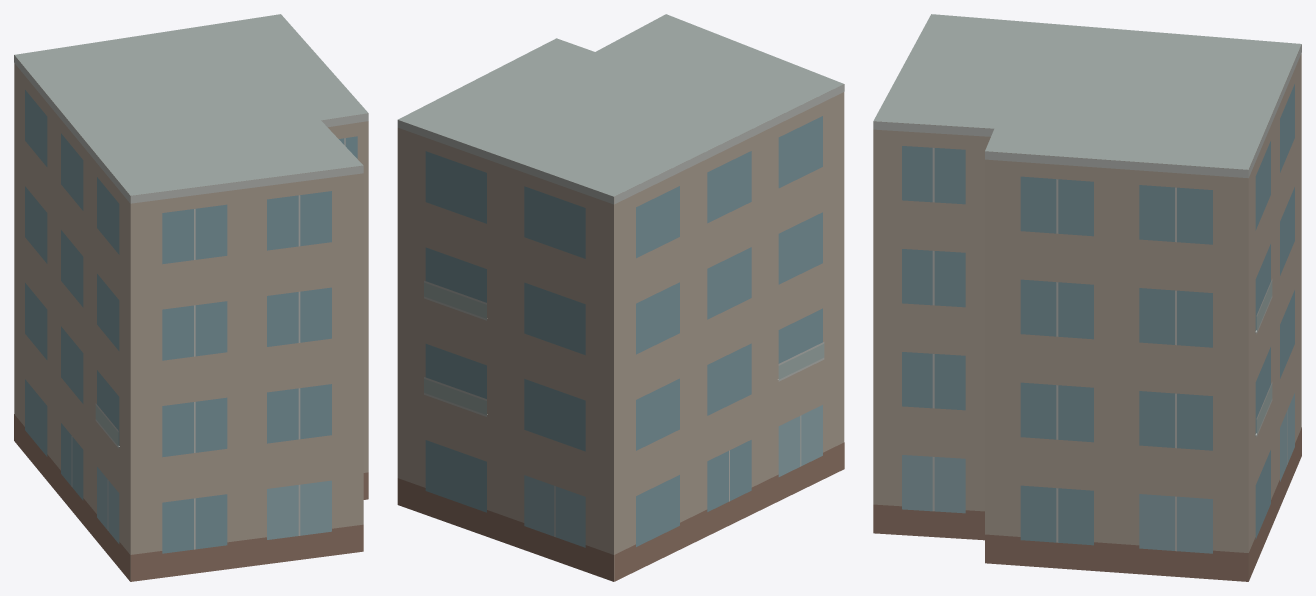
Rendered from survey-upis-32922906.glb.
3 renders of one model, left to right at view 1: azimuth 30°, elevation 25°; view 2: azimuth 150°, elevation 25°; view 3: azimuth 270°, elevation 25°, orthographic. The views are drawn at different scales.
Visible parts, largest first — view 1: survey-upis-32922906.tmp; view 2: survey-upis-32922906.tmp; view 3: survey-upis-32922906.tmp.
Part boxes in pixels (box(x1,y1,x2,y2)): survey-upis-32922906.tmp: box(14, 14, 368, 581); survey-upis-32922906.tmp: box(397, 14, 844, 581); survey-upis-32922906.tmp: box(873, 14, 1301, 581).
Bounding box in the file's own units: 9.74 × 12 × 11.32.
